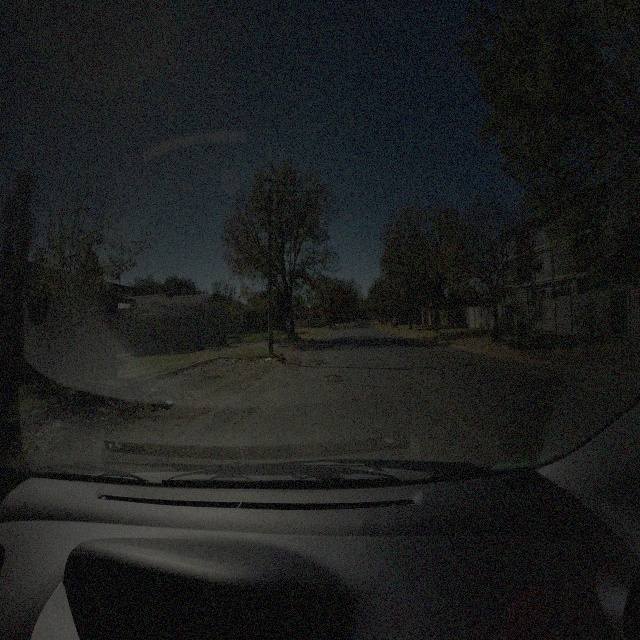pothole: (326, 373, 344, 387), (312, 357, 326, 366)
